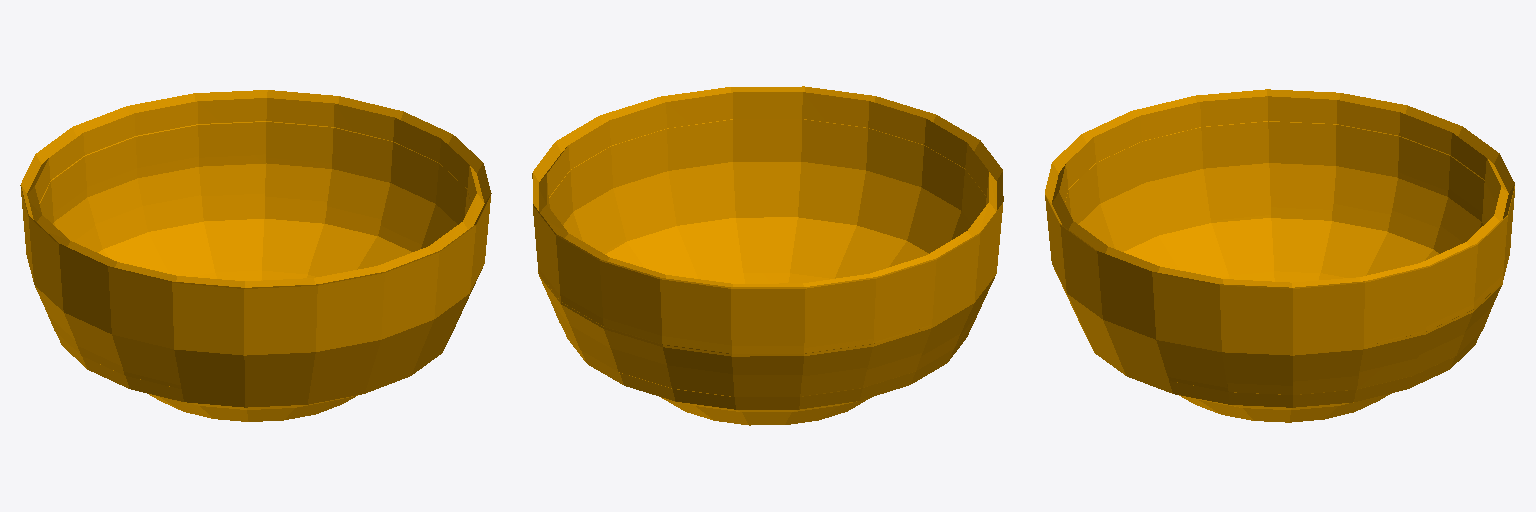
robot.urdf — tbowl:
<robot name="tbowl">
    <link name="tbowl">
        <collision>
            <geometry>
                <mesh filename="tbowl.stl" />
            </geometry>
        </collision>
        <visual>
            <geometry>
                <mesh filename="tbowl.stl" />
            </geometry>
        </visual>
    </link>
</robot>

--- What the picture shows (computed from the rendered views, not written in the file) ---
The picture shows the robot from 3 angles, left to right: view 1: azimuth 30°, elevation 25°; view 2: azimuth 150°, elevation 25°; view 3: azimuth 270°, elevation 25°; orthographic projection.
Robot: tbowl — 1 links, 0 joints (none); root link tbowl; default pose: all joints at 0.
Links seen in each view (by area): view 1: tbowl; view 2: tbowl; view 3: tbowl.
Link boxes in pixels (x1,y1,x2,y2): tbowl: (20, 90, 491, 421); tbowl: (532, 86, 1003, 425); tbowl: (1045, 89, 1514, 422).
Bounding box of the posed robot: 0.1644 × 0.165 × 0.073 m (x, y, z).
Meshes: 1 distinct files referenced, 1 mesh visuals loaded (1 binary STL).